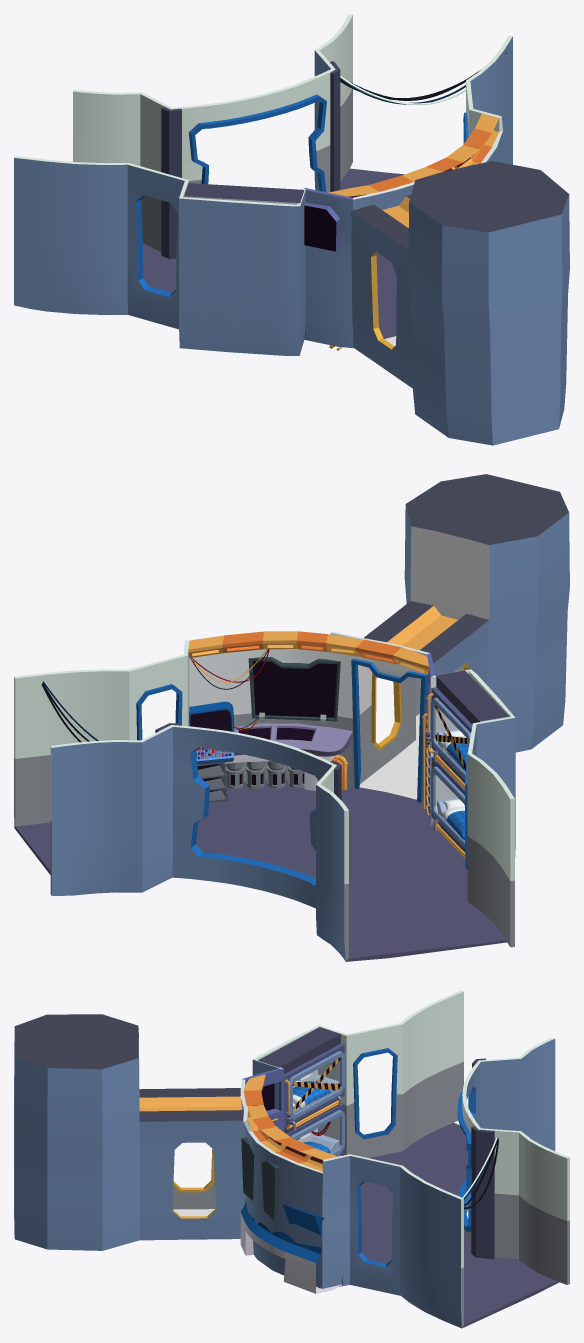
The model's file is bunkbase.obj.
3 views of the same model, one above another, from view 1: azimuth 30°, elevation 25°; view 2: azimuth 150°, elevation 25°; view 3: azimuth 270°, elevation 25° (orthographic). The views are drawn at different scales.
Visible parts, largest first — view 1: Bunk_room_Base; view 2: Bunk_room_Base; view 3: Bunk_room_Base.
Part boxes in pixels (x1,y1,x2,y2): Bunk_room_Base: [14, 14, 569, 445]; Bunk_room_Base: [14, 474, 569, 961]; Bunk_room_Base: [14, 990, 569, 1328].
Bounding box in the file's own units: 39.22 × 16.52 × 44.07.
